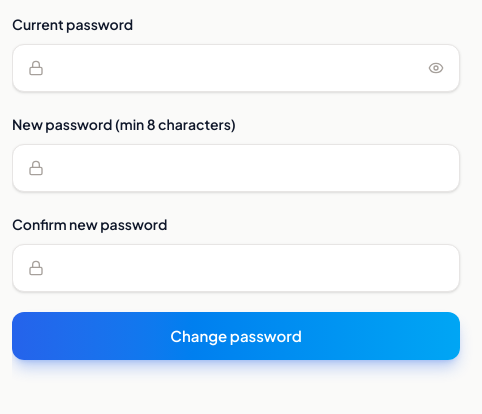
Scenario: ChangePasswordForm › requires matching passwords and clears the error on typing
Type "oldpass" into the password field labelled "Current password".
click(236, 68); type("oldpass")  # box top-left (12, 44), bottom-right (460, 92)
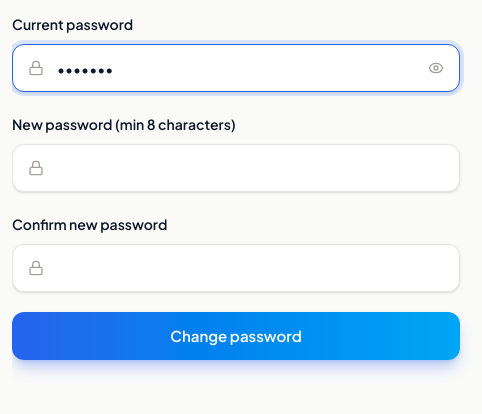
Type "newpass123" into the password field labelled "New password (min 8 characters)".
click(236, 168); type("newpass123")  # box top-left (12, 144), bottom-right (460, 192)
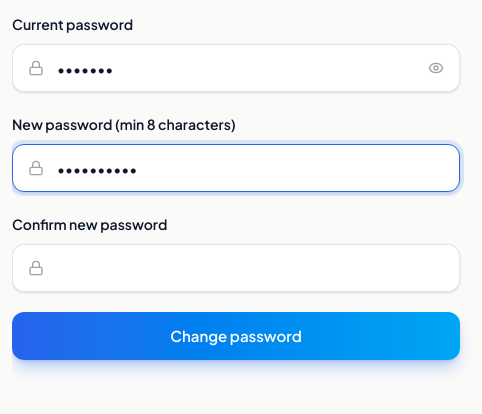
Type "different1" into the password field labelled "Confirm new password".
click(236, 268); type("different1")  # box top-left (12, 244), bottom-right (460, 292)
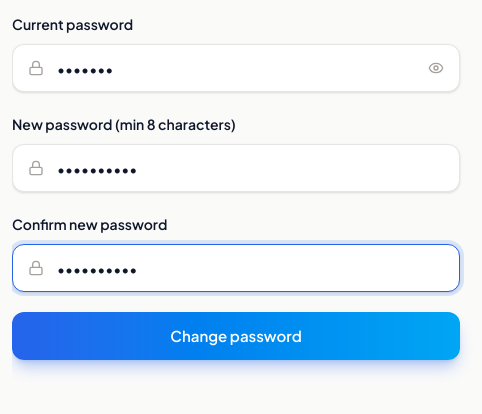
Click the button "Change password".
click(236, 336)  # box top-left (12, 312), bottom-right (460, 360)
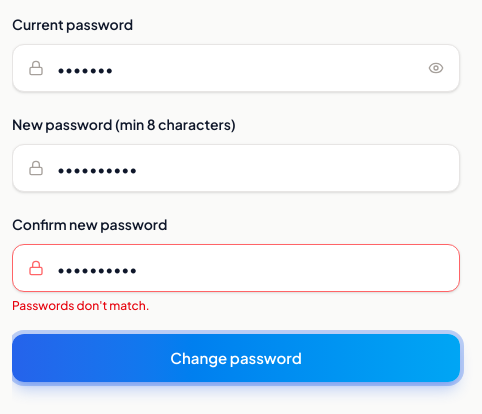
Expected: the text "Passwords don't match." is shown, top-left (12, 298), bottom-right (150, 313)
Type "x" into the password field labelled "Confirm new password".
click(236, 268); type("x")  # box top-left (12, 244), bottom-right (460, 292)
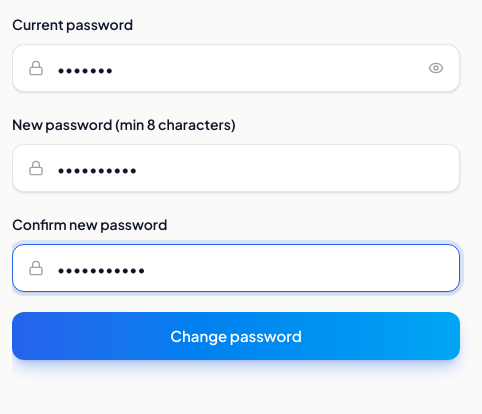
Expected: the text "Passwords don't match." is gone
